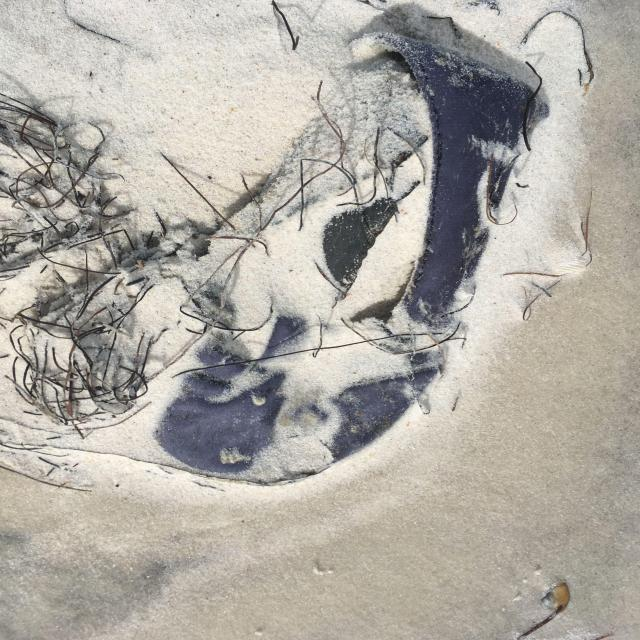litter: (155, 36, 531, 482)
